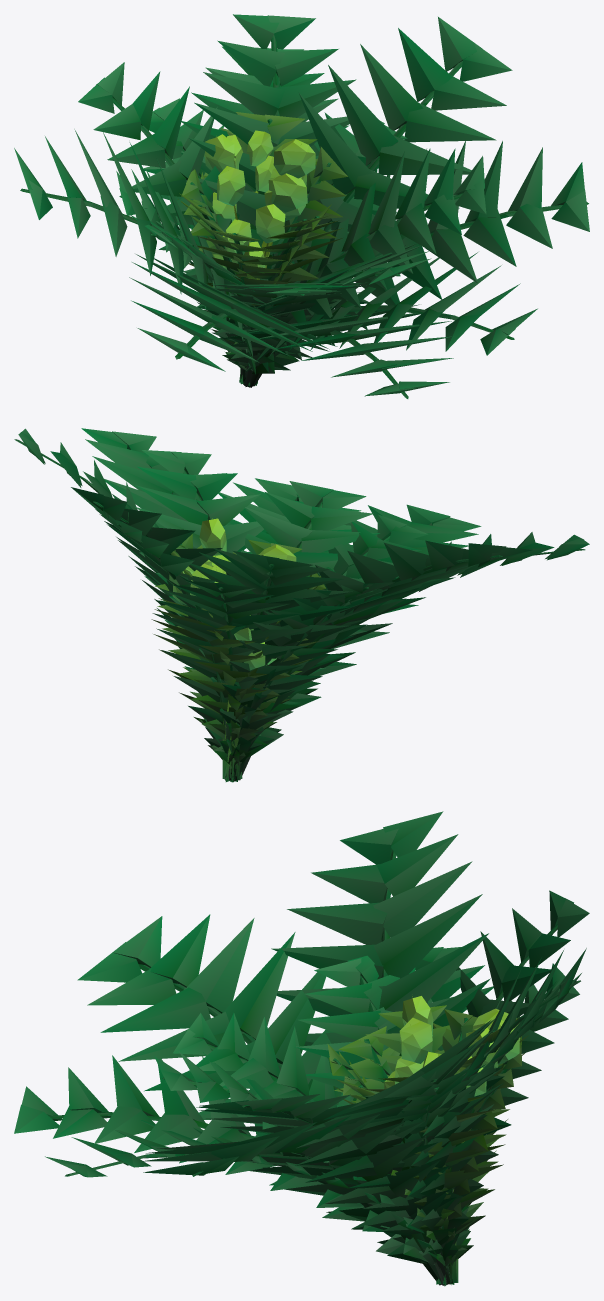
File: vegetasi_fern_emerald_77889.glb
3 views of the same model, one above another, from view 1: azimuth 30°, elevation 25°; view 2: azimuth 150°, elevation 25°; view 3: azimuth 270°, elevation 25° (orthographic). The views are drawn at different scales.
Parts seen in each view (by area): view 1: Pakis_Tropis_Sungai; view 2: Pakis_Tropis_Sungai; view 3: Pakis_Tropis_Sungai.
Part boxes in pixels (box(x1,y1,x2,y2)): Pakis_Tropis_Sungai: box(14, 14, 589, 398); Pakis_Tropis_Sungai: box(14, 428, 589, 782); Pakis_Tropis_Sungai: box(14, 811, 589, 1286).
Bounding box in the file's own units: 2.8 × 1.69 × 2.43.
